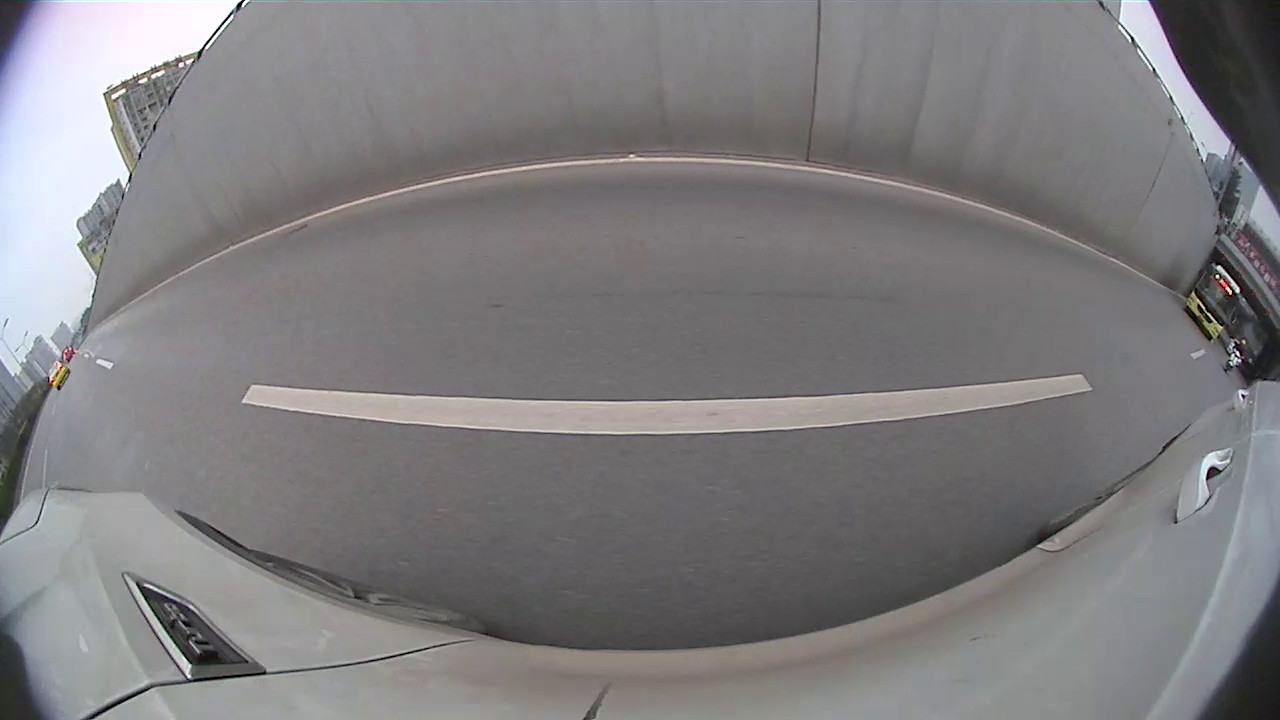bus: (1183, 261, 1244, 342)
car: (43, 360, 71, 388)
